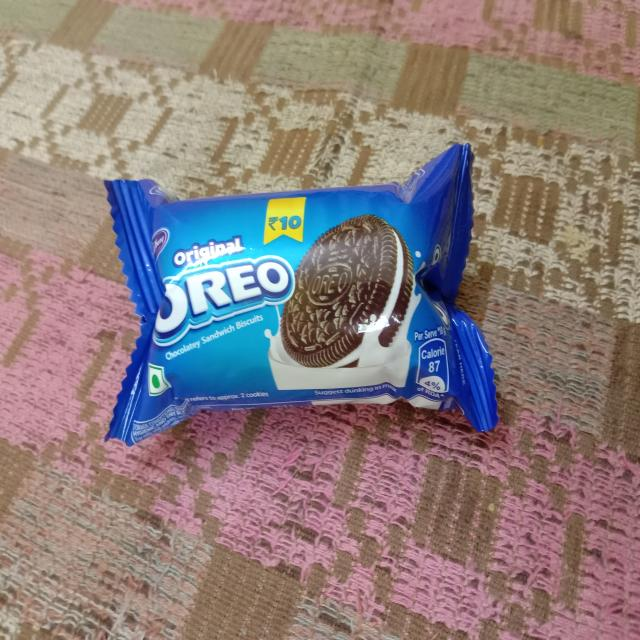oreo biscuit: (82, 172, 506, 428)
